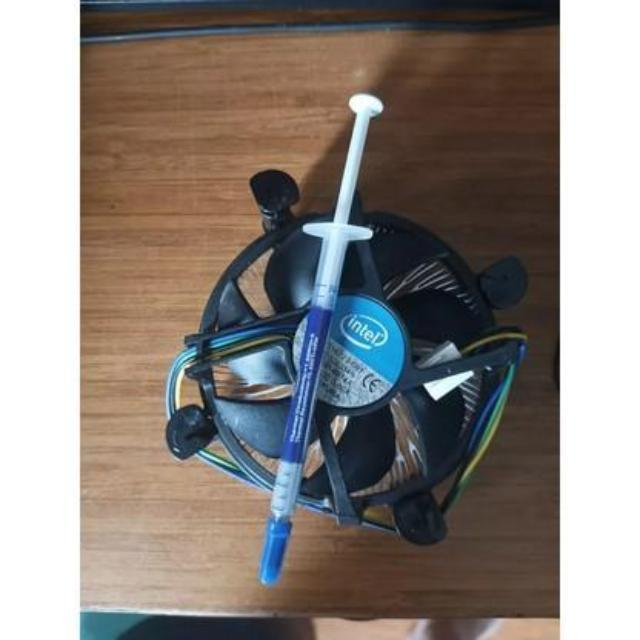CPU_Fan: (175, 193, 518, 542)
